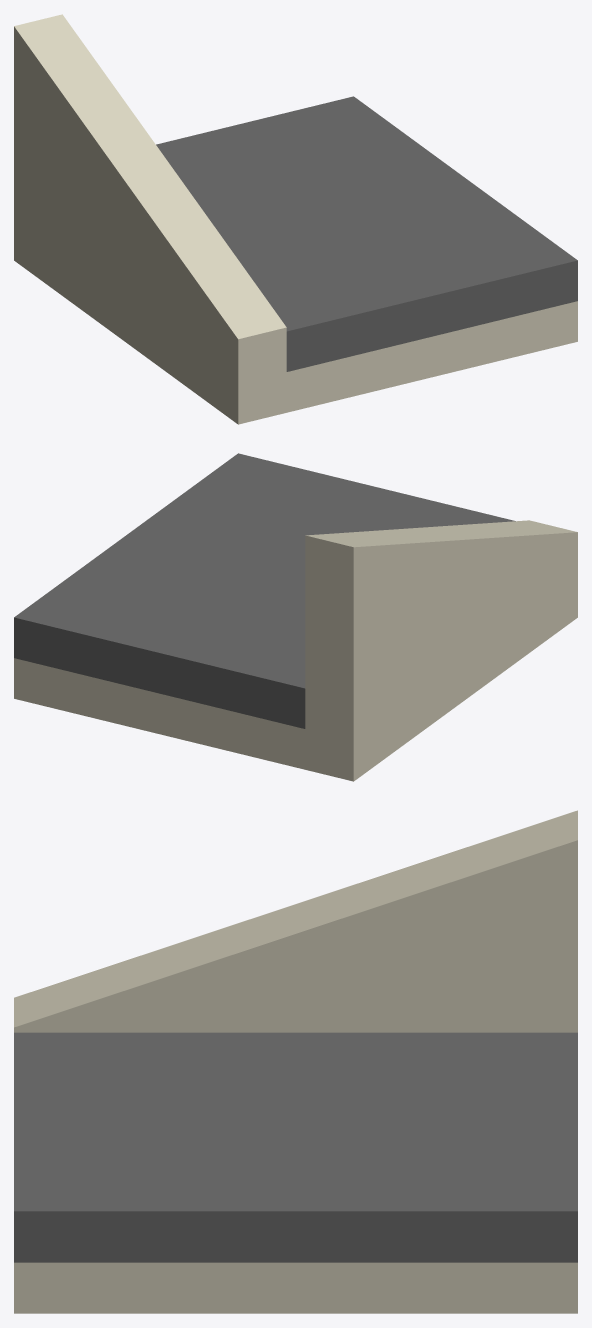
The model's file is tile260.dae.
3 renders of one model, top to bottom at view 1: azimuth 30°, elevation 25°; view 2: azimuth 150°, elevation 25°; view 3: azimuth 270°, elevation 25°, orthographic. The views are drawn at different scales.
Visible parts, largest first — view 1: tile260; view 2: tile260; view 3: tile260.
Part boxes in pixels (x1=…): tile260: x1=14, y1=14, x2=577, y2=424; tile260: x1=14, y1=453, x2=577, y2=781; tile260: x1=14, y1=810, x2=577, y2=1313.
Size of the model in its own units: 0.875 by 0.5767 by 1.
